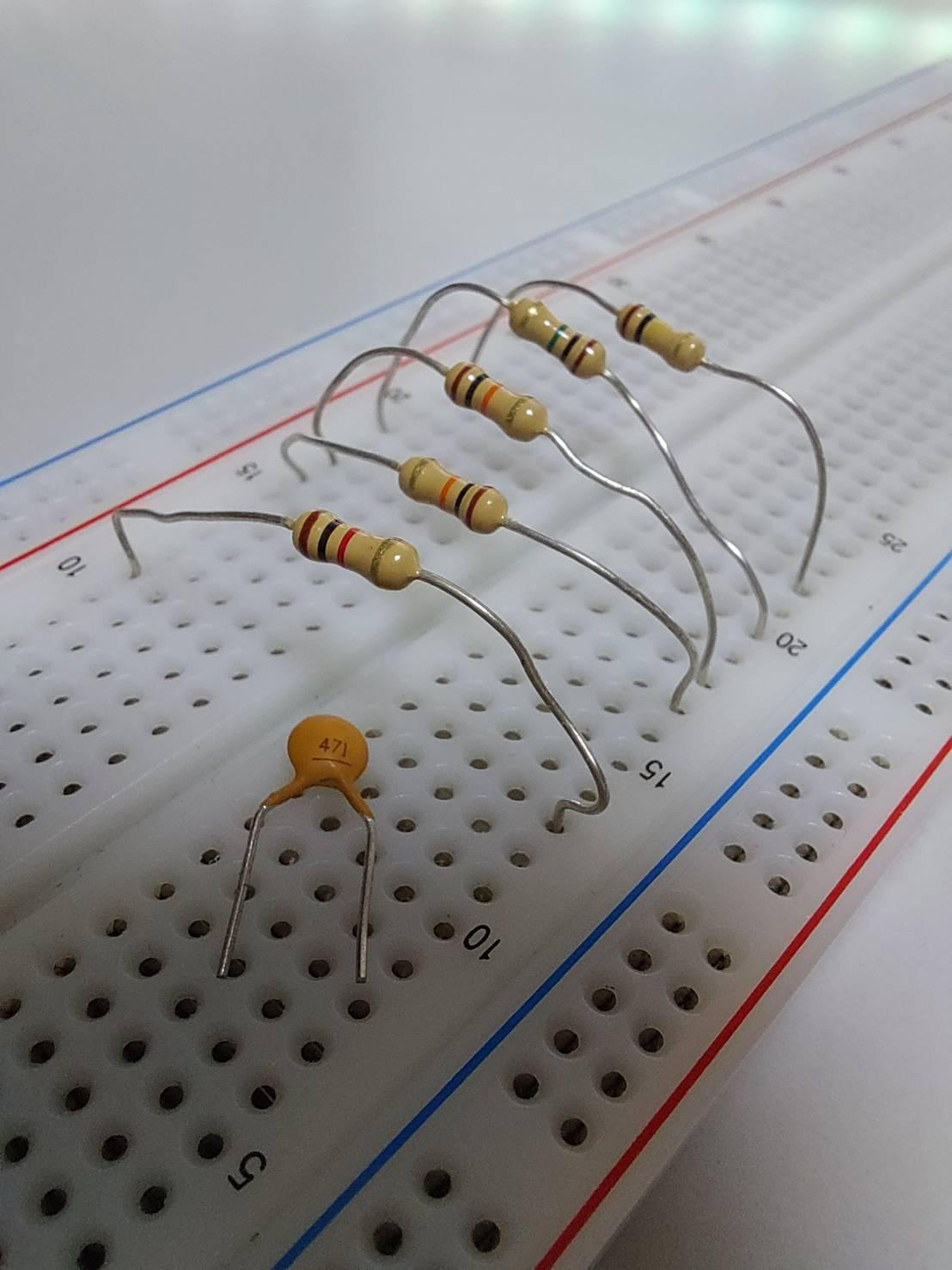resistor: (282, 509, 428, 588), (442, 353, 548, 449), (394, 457, 510, 538), (507, 292, 598, 380), (615, 294, 708, 371)
